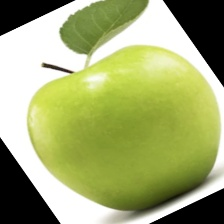apple: (34, 60, 171, 195)
